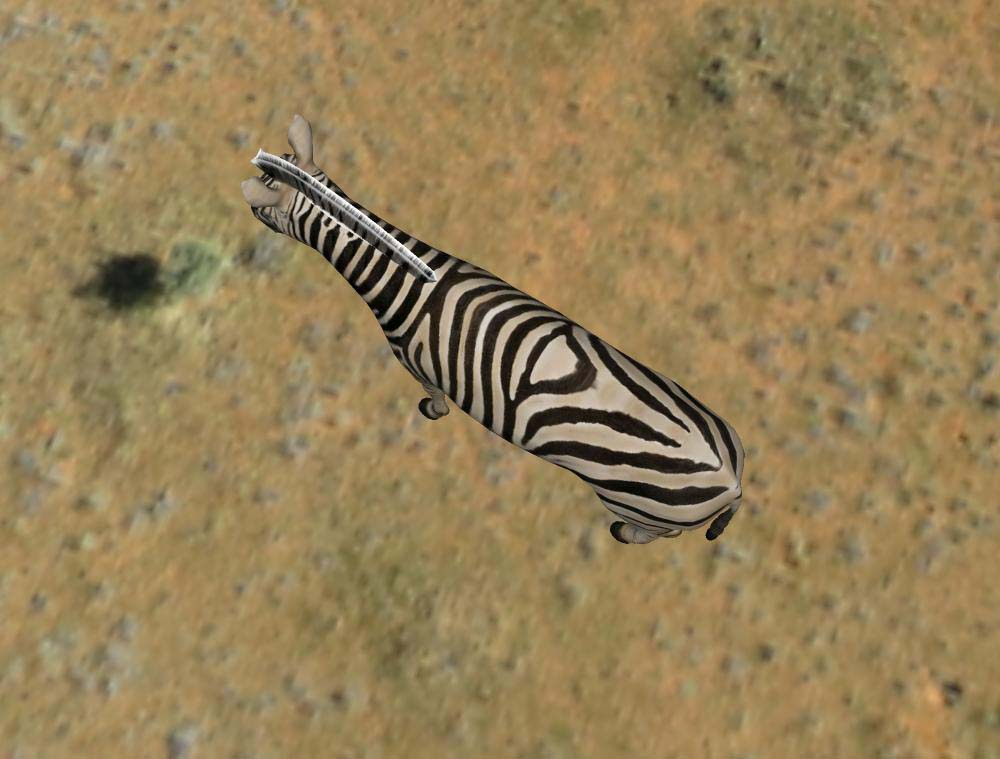zebra: (240, 112, 750, 553)
